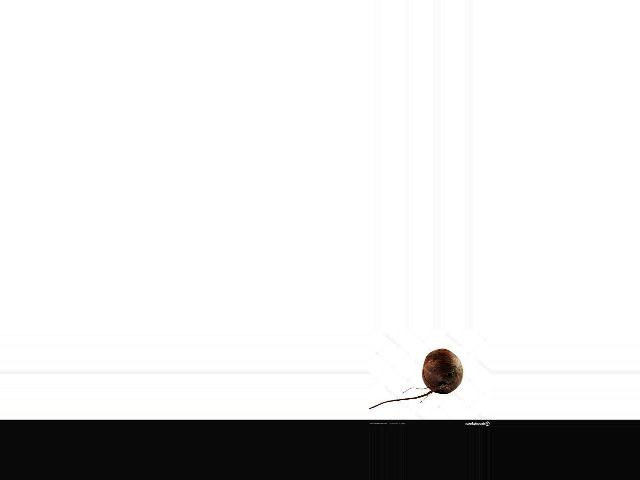beet: (368, 349, 462, 409)
